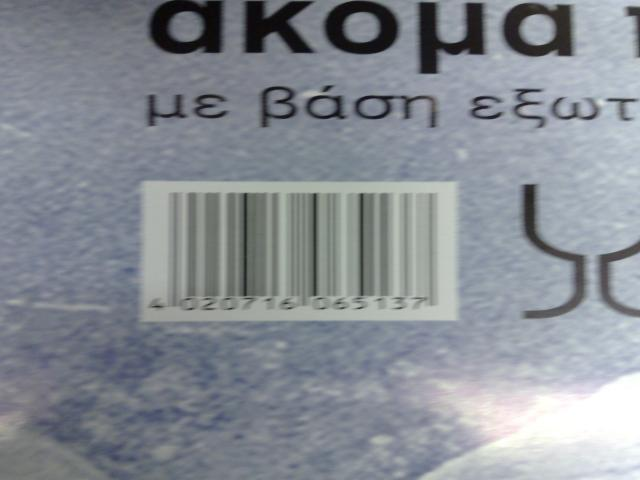Barcode: (141, 181, 459, 320)
